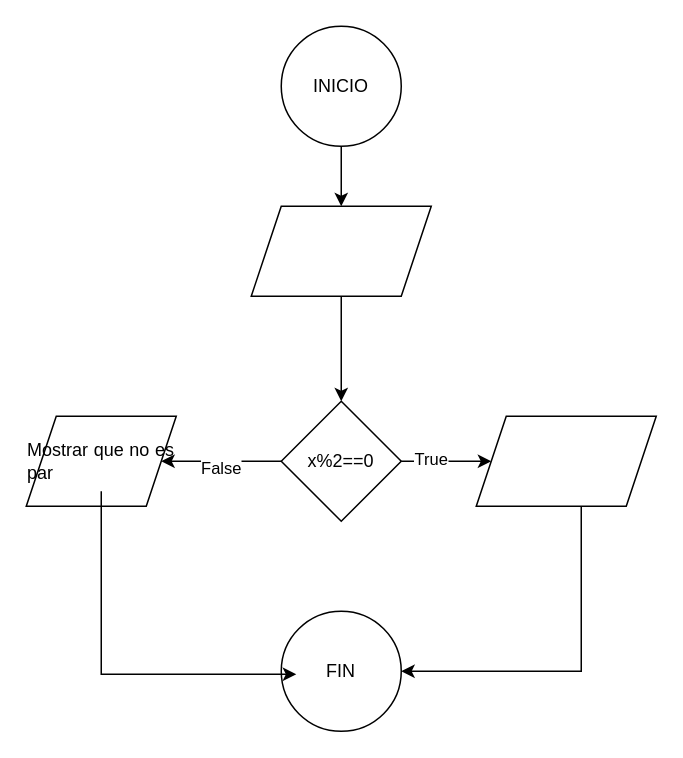
Some shapes in this 683 by 758 pixel diagram are drawn without their labels. The centre of each missing label's shape, as x and y in pixels:
Mostrar que es par: the point at 565,460
Pedir el numero X: the point at 340,250
